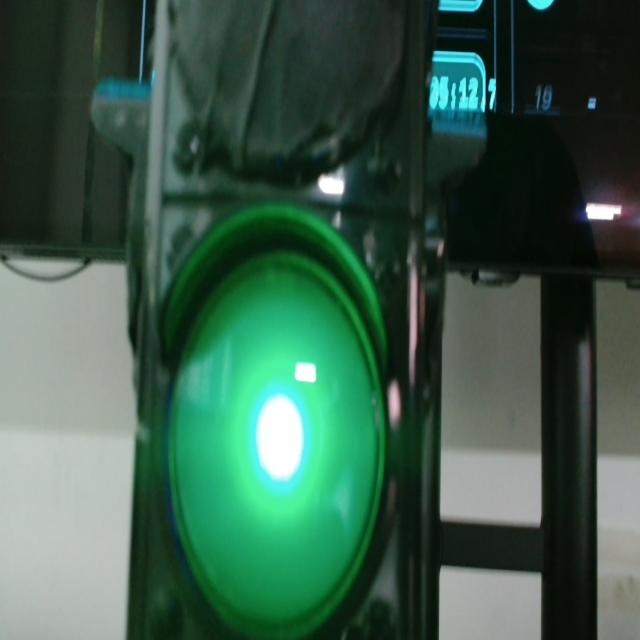green_light: (169, 250, 384, 638), (256, 395, 304, 481)
